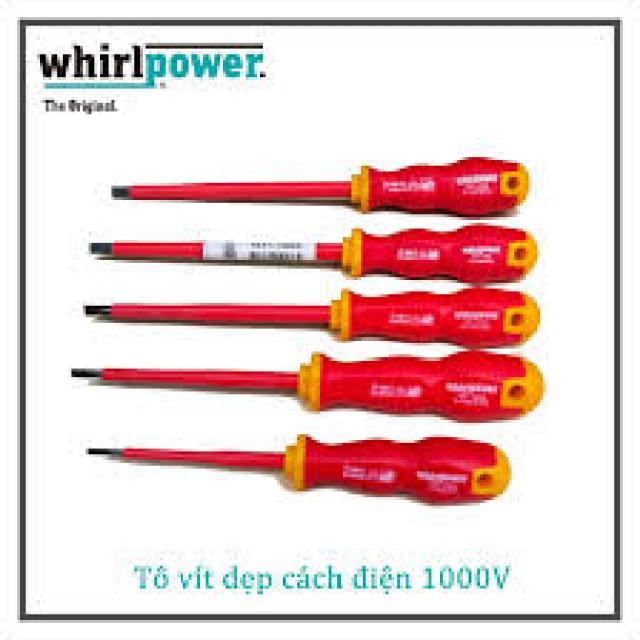screwdriver: (64, 350, 544, 430), (80, 428, 514, 508), (79, 286, 542, 352), (87, 220, 539, 286), (107, 152, 536, 218)
